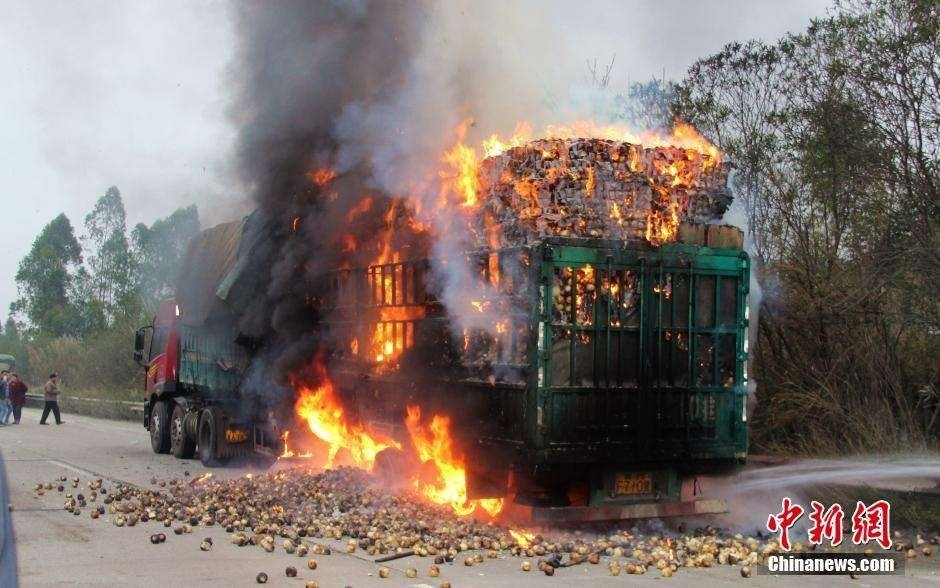fire: (285, 100, 723, 552)
